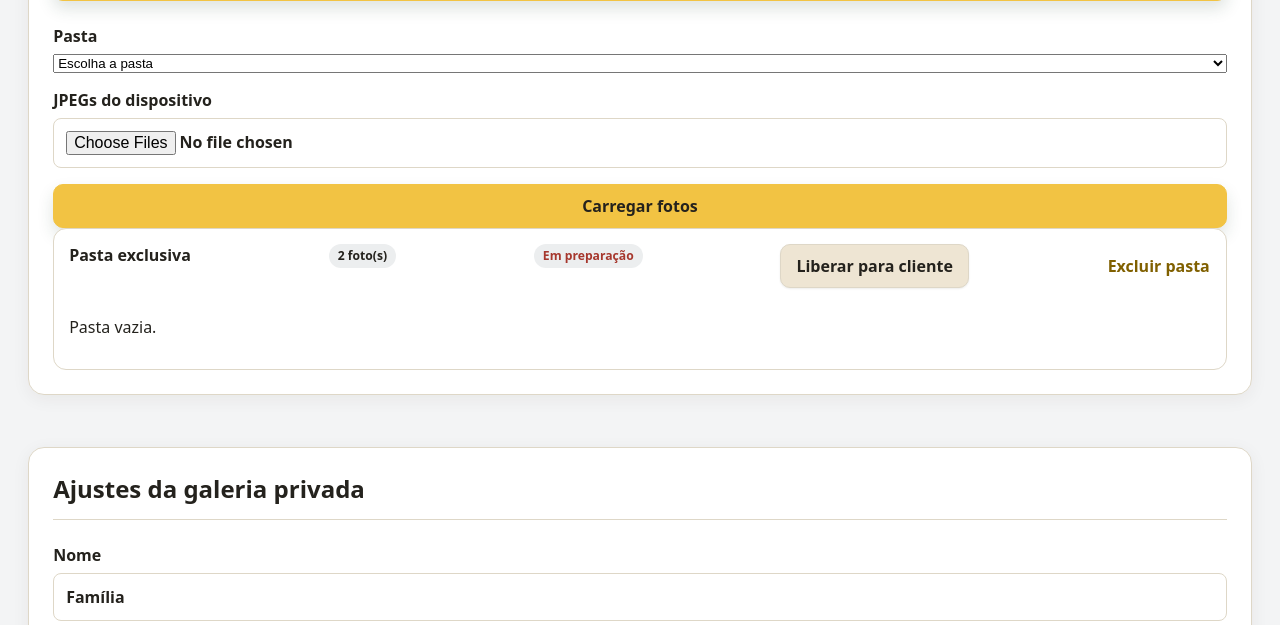
Scenario: libera uma pasta privada depois do processamento
The width and height of the screenshot is (1280, 625).
(page scrolled)
Click the button "Liberar para cliente" at (875, 266), box left=780, top=244, right=969, bottom=288
(page scrolled)
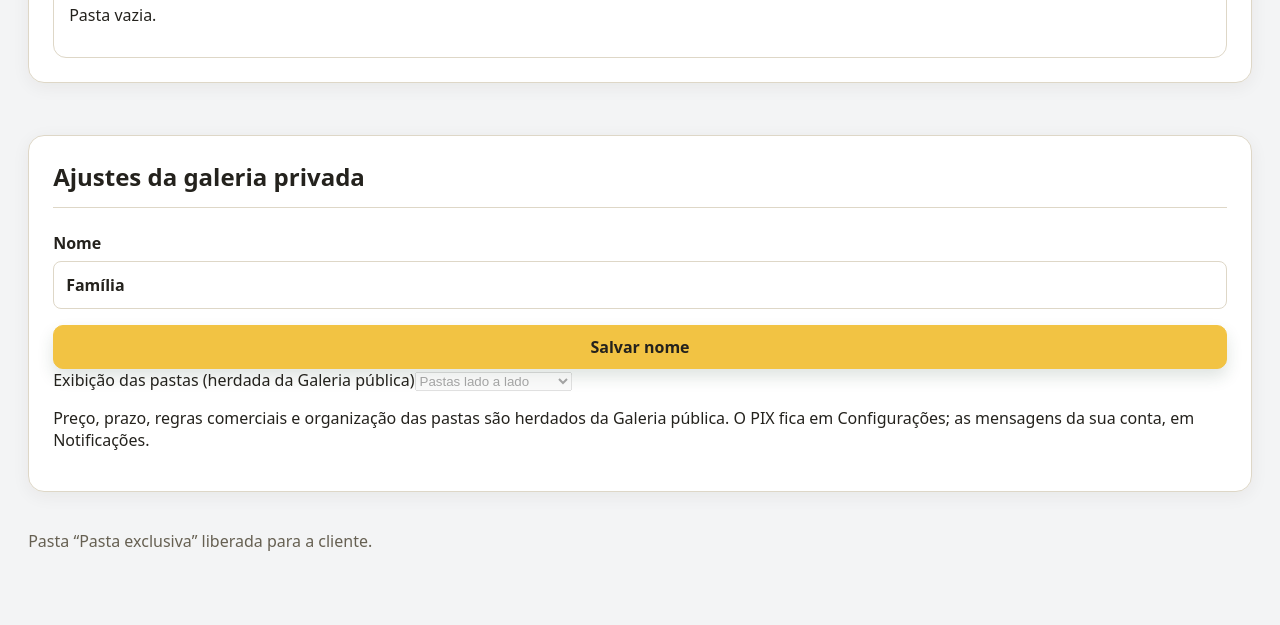
Expected: the text "Pasta “Pasta exclusiva” liberada para a cliente." is shown, left=28, top=530, right=372, bottom=552
Expected: the button "Liberar para cliente" is gone
